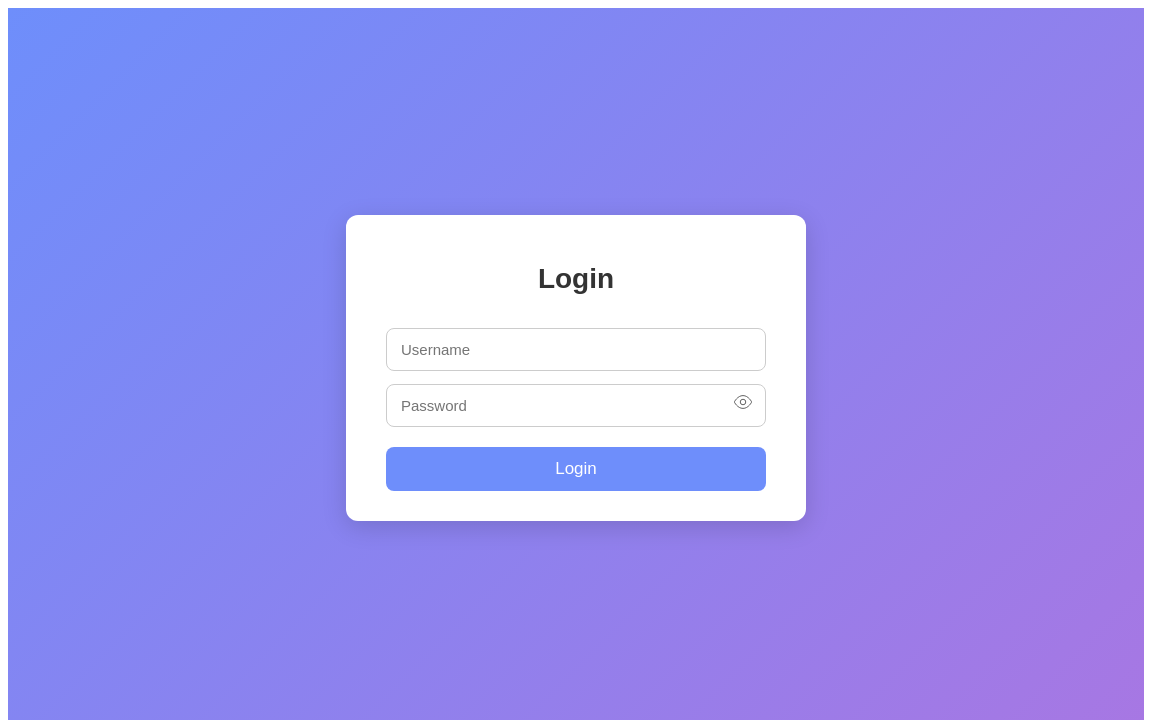
Test: Login E2E Test › Đăng nhập thất bại
The width and height of the screenshot is (1152, 720).
In the field with test id "username-input": [576, 350] box [386,328,766,371], type "user"
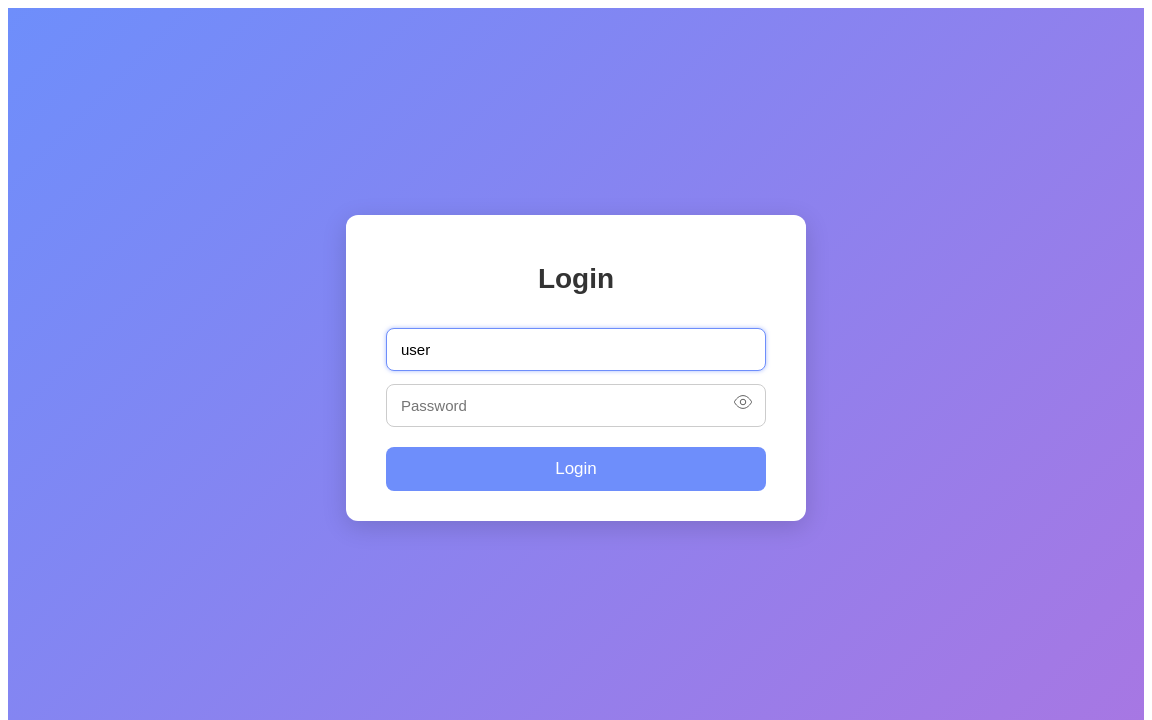
In the password field with test id "password-input": [576, 406] box [386,384,766,427], type "user124"
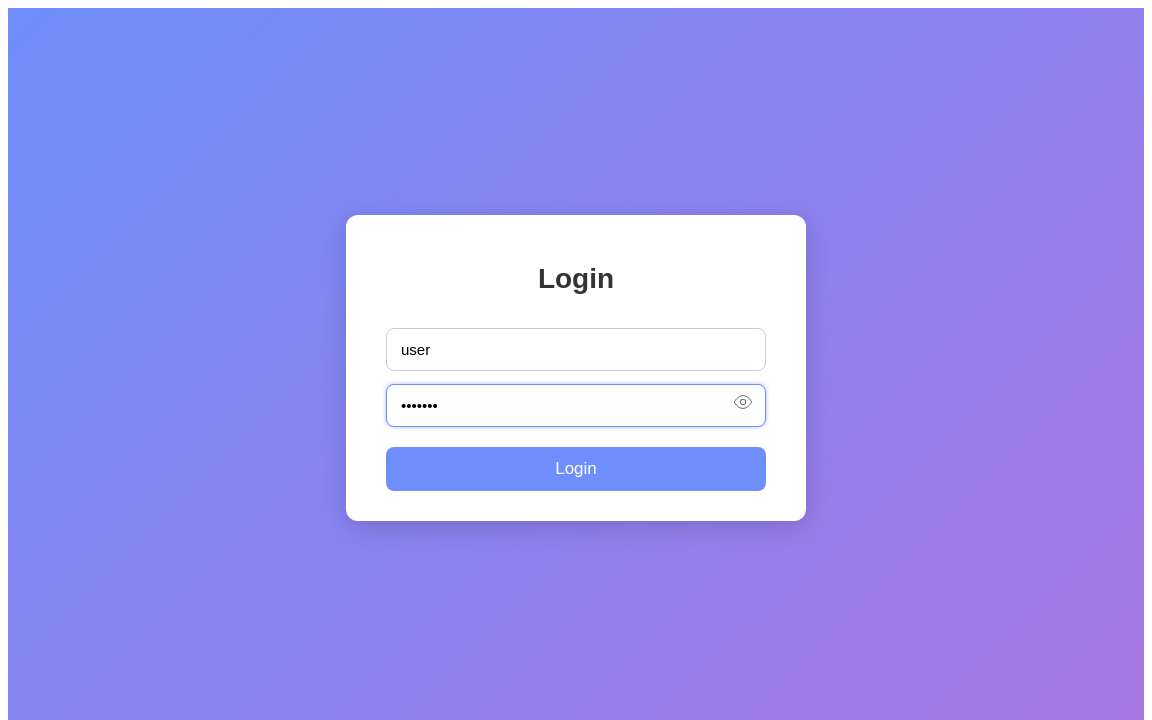
Click the button with test id "login-button": [576, 469] box [386,447,766,491]
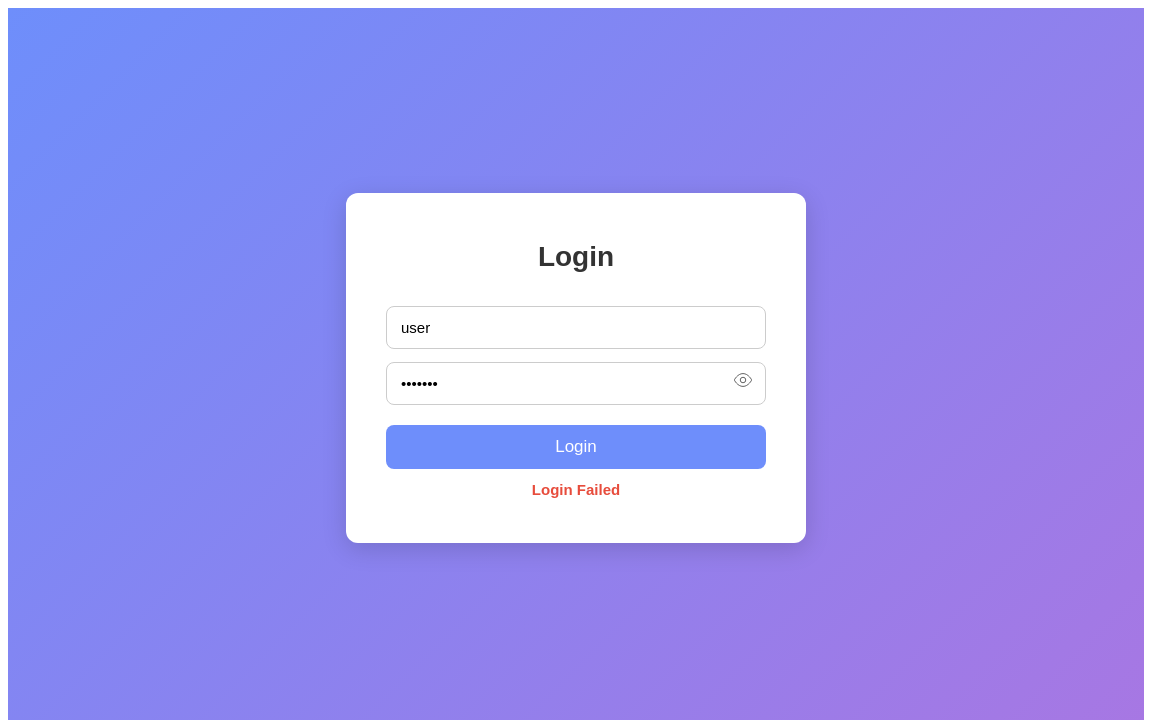
Result: the text with test id "login-message" reads "Login Failed" at [532,481,620,498]
